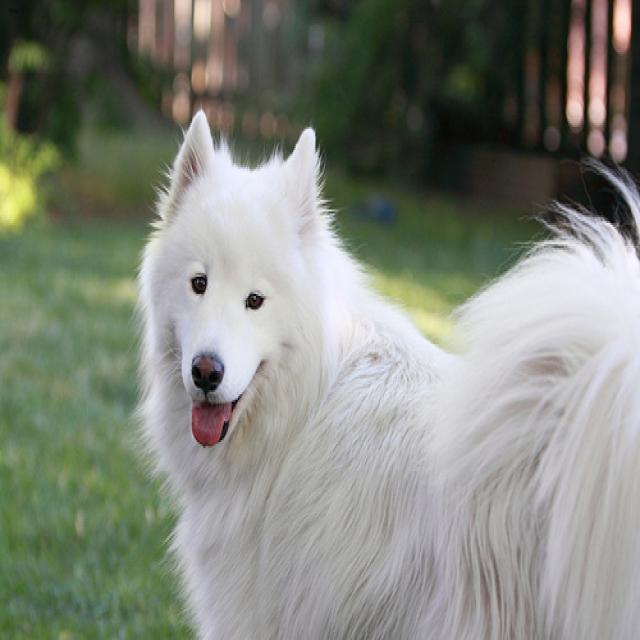dog-samoyed: (124, 100, 637, 636)
